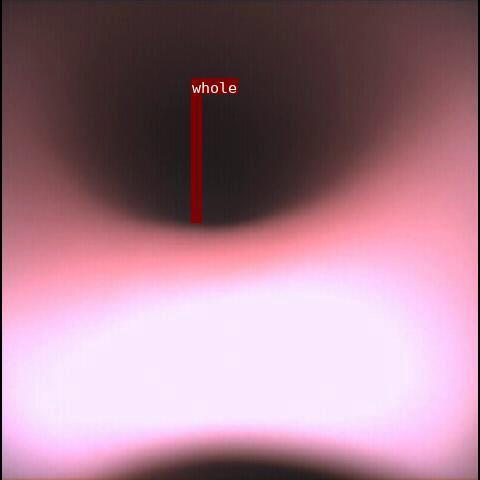whole: (191, 94, 201, 222)
